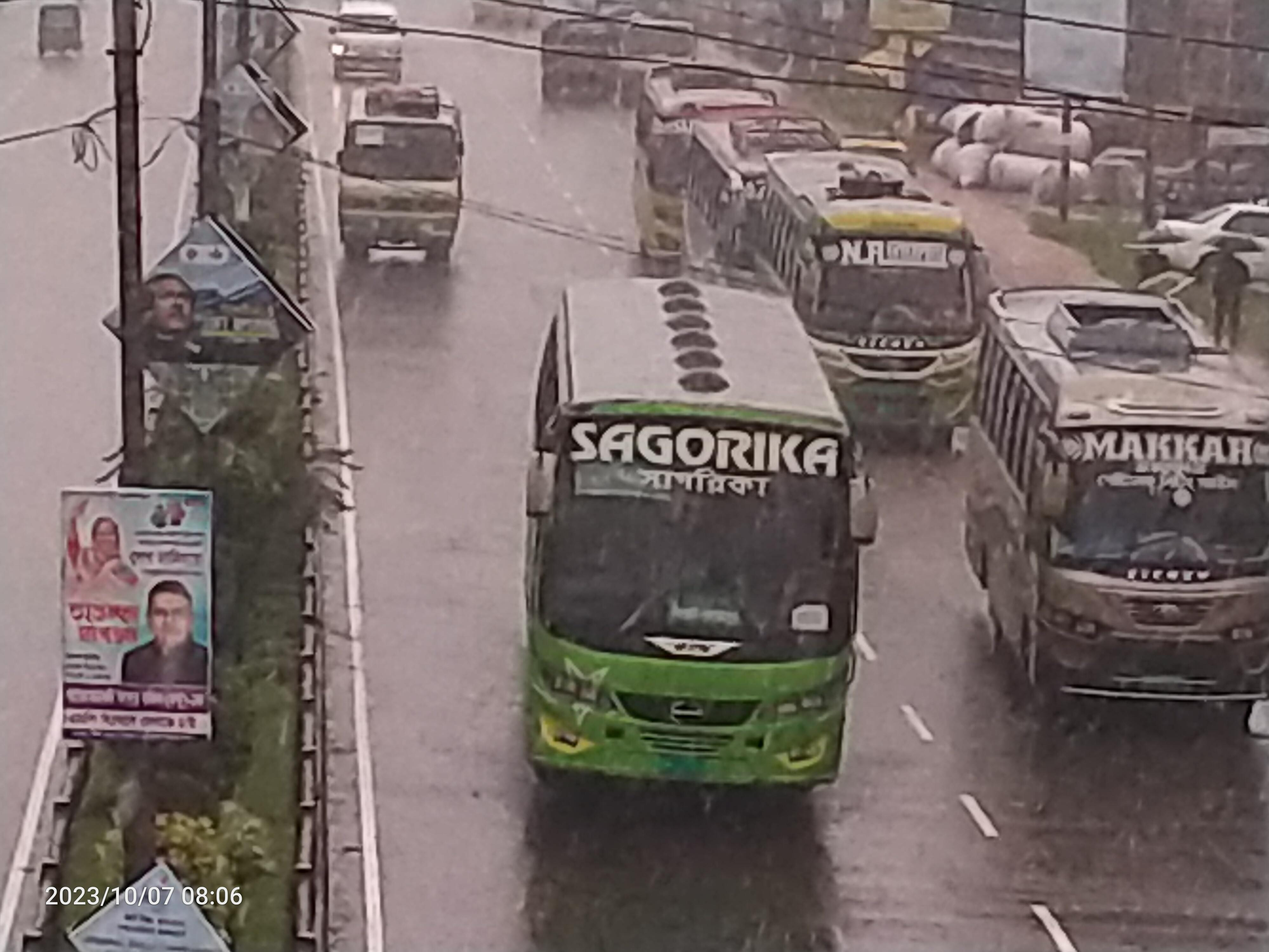Bus: (480, 231, 881, 832), (947, 269, 1269, 751), (725, 133, 1032, 462), (613, 48, 822, 282), (317, 78, 491, 281)
Car: (1130, 181, 1269, 311), (314, 1, 423, 93)
